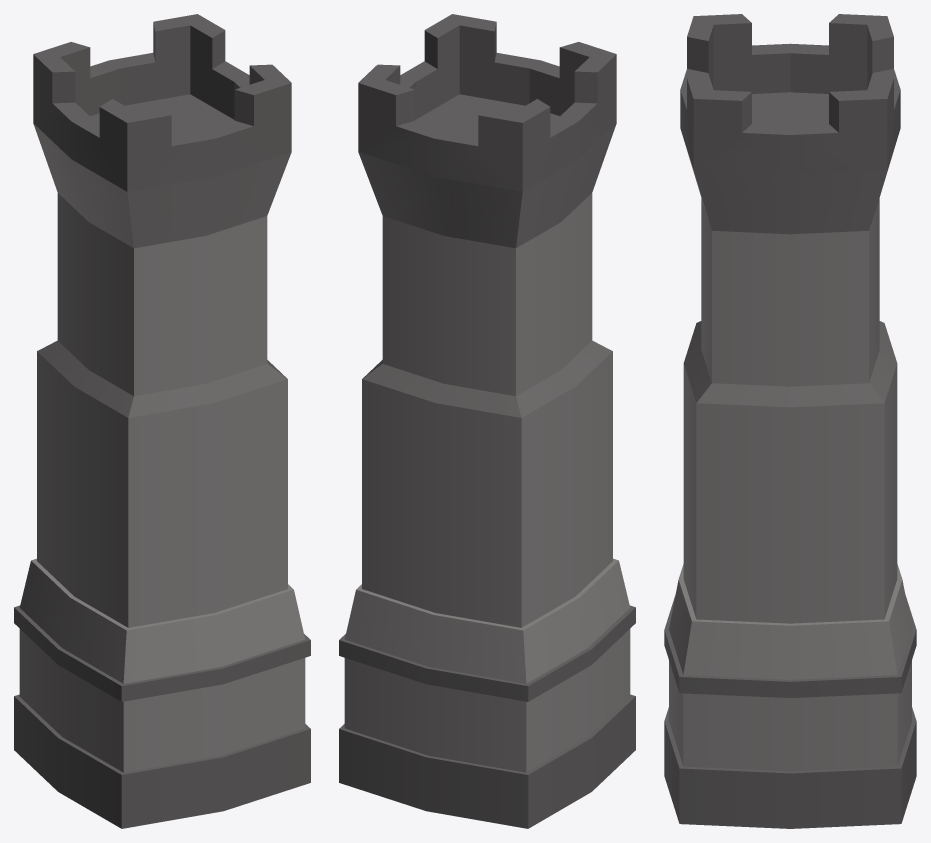
The model's file is mesh_Wall_Tower.fbx.
The picture shows the model from 3 angles, left to right: view 1: azimuth 30°, elevation 25°; view 2: azimuth 150°, elevation 25°; view 3: azimuth 270°, elevation 25°; orthographic projection. The views are drawn at different scales.
Parts seen in each view (by area): view 1: Wall_Tower; view 2: Wall_Tower; view 3: Wall_Tower.
Boxes of the visible parts, bbox=[...] form: Wall_Tower: bbox=[14, 14, 310, 828]; Wall_Tower: bbox=[339, 14, 635, 828]; Wall_Tower: bbox=[664, 14, 916, 828].
Size of the model in its own units: 785 by 2509 by 797.
Materials: 1 (1 with a texture image).
